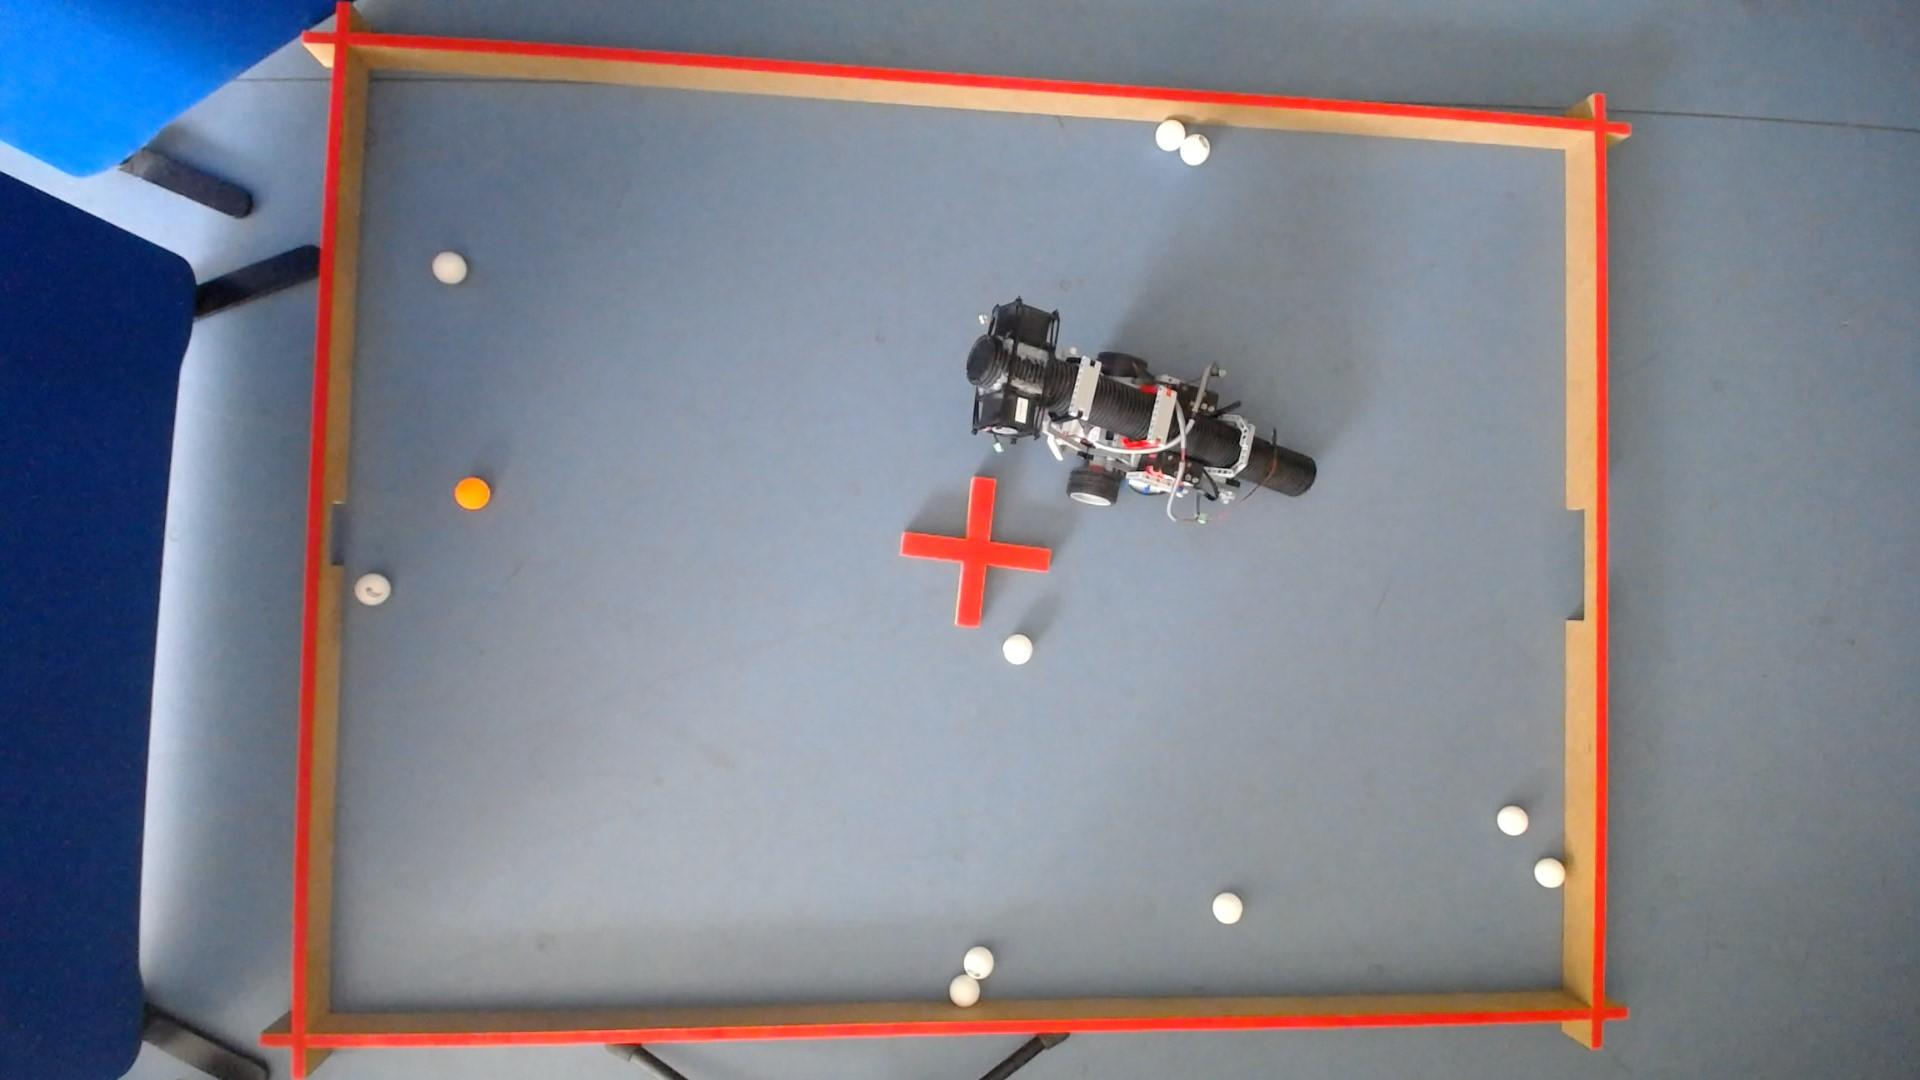orange: (454, 476, 488, 509)
robot: (967, 297, 1317, 502)
white: (351, 571, 390, 605), (430, 249, 465, 282), (949, 973, 982, 1009), (1180, 129, 1213, 164), (963, 945, 996, 980), (1156, 116, 1188, 149), (1499, 804, 1532, 836), (1215, 891, 1245, 924), (1004, 633, 1034, 665), (1536, 858, 1568, 889)
